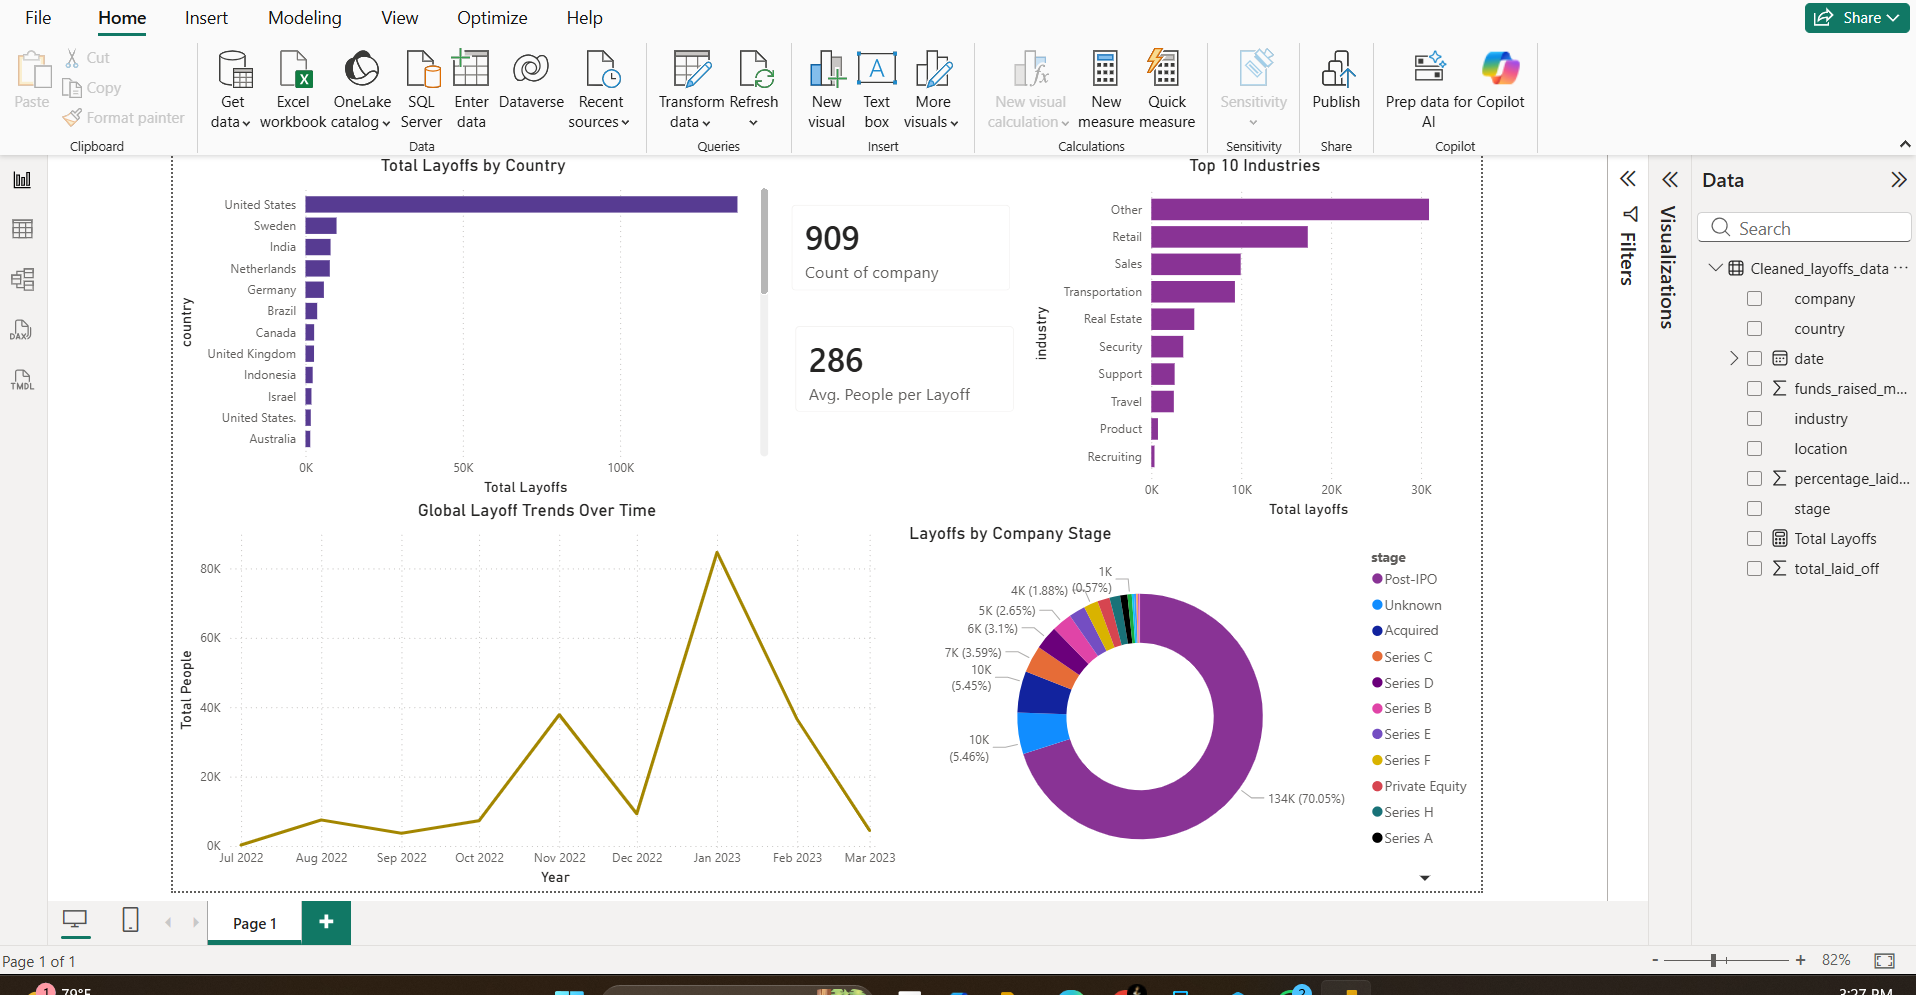

This screenshot's page, from the dashboard's own definition file:
{"tool":"powerbi","page":{"name":"Page 1","canvas":[1280,720],"ordinal":0},"visuals":[{"type":"lineChart","title":"Global Layoff Trends Over Time","fields":{"Y":["Sum(Cleaned_layoffs_data.total_laid_off)"],"Category":["Cleaned_layoffs_data.date.Variation.Date Hierarchy.Year","Cleaned_layoffs_data.date.Variation.Date Hierarchy.Quarter","Cleaned_layoffs_data.date.Variation.Date Hierarchy.Month"]},"box":[0,337.8,712.7,382.5],"z":0},{"type":"barChart","title":"Total Layoffs by Country","fields":{"Category":["Cleaned_layoffs_data.country"],"Y":["Cleaned_layoffs_data.Total Layoffs"]},"box":[0,0,587.7,337.8],"z":1000},{"type":"barChart","title":"Top 10 Industries","fields":{"Category":["Cleaned_layoffs_data.industry"],"Y":["Sum(Cleaned_layoffs_data.total_laid_off)"]},"box":[836.3,0,443.7,359.5],"z":2000},{"type":"cardVisual","fields":{"Data":["CountNonNull(Cleaned_layoffs_data.company)"]},"box":[587.7,31.9,248.6,118.6],"z":4000},{"type":"cardVisual","fields":{"Data":["Avg(Cleaned_layoffs_data.total_laid_off)"]},"box":[591.6,150.4,248.6,118.6],"z":5000},{"type":"donutChart","title":"Layoffs by Company Stage","fields":{"Category":["Cleaned_layoffs_data.stage"],"Y":["Sum(Cleaned_layoffs_data.total_laid_off)"]},"box":[715.2,359.5,564.8,360.8],"z":6000}]}

Visuals, with their boxes on the page's 1280x720 design canvas (x1, y1, x2, y2). These are canvas units, not pixel positions in the 1916x995 screenshot, which may show the page scaled, cropped or inside an application window:
"Global Layoff Trends Over Time" lineChart: box(0, 338, 713, 720)
"Total Layoffs by Country" barChart: box(0, 0, 588, 338)
"Top 10 Industries" barChart: box(836, 0, 1280, 360)
cardVisual - CountNonNull(Cleaned_layoffs_data.company): box(588, 32, 836, 150)
cardVisual - Avg(Cleaned_layoffs_data.total_laid_off): box(592, 150, 840, 269)
"Layoffs by Company Stage" donutChart: box(715, 360, 1280, 720)
